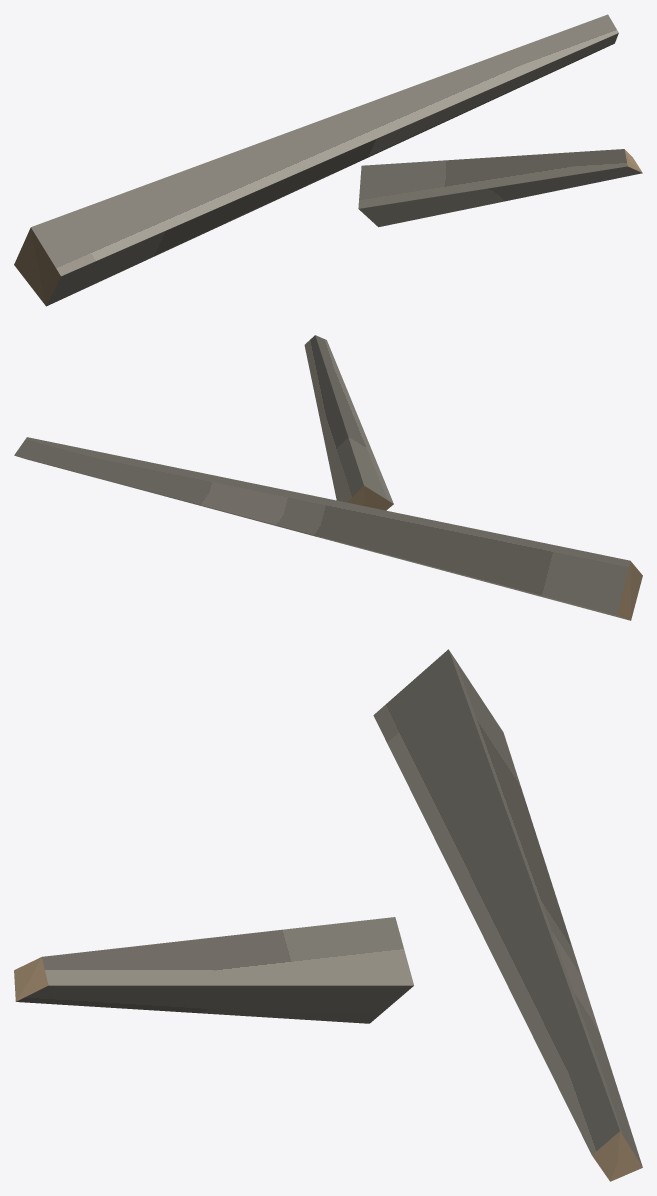
The model's file is scatter-branch-mid.glb.
3 views of the same model, one above another, from view 1: azimuth 30°, elevation 25°; view 2: azimuth 150°, elevation 25°; view 3: azimuth 270°, elevation 25° (orthographic). The views are drawn at different scales.
Visible parts, largest first — view 1: scatter-branch.001; view 2: scatter-branch.001; view 3: scatter-branch.001.
Part boxes in pixels (x1,y1,x2,y2): scatter-branch.001: (14,14,642,306); scatter-branch.001: (14,335,642,620); scatter-branch.001: (14,649,642,1181).
Size of the model in its own units: 1.23 by 0.2319 by 0.6198.
Materials: 2 (2 with a texture image).
